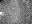person: (1, 9, 5, 16)
